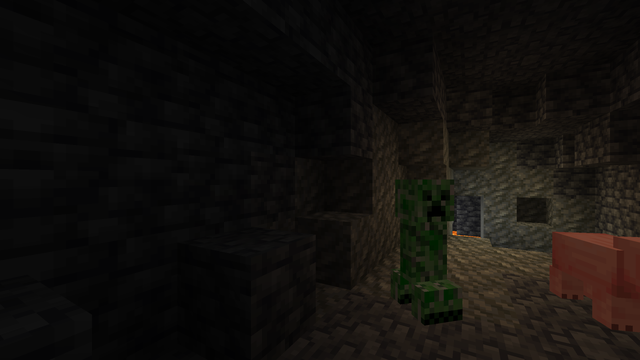cochons: (551, 229, 636, 330)
creepers: (393, 172, 450, 324)
